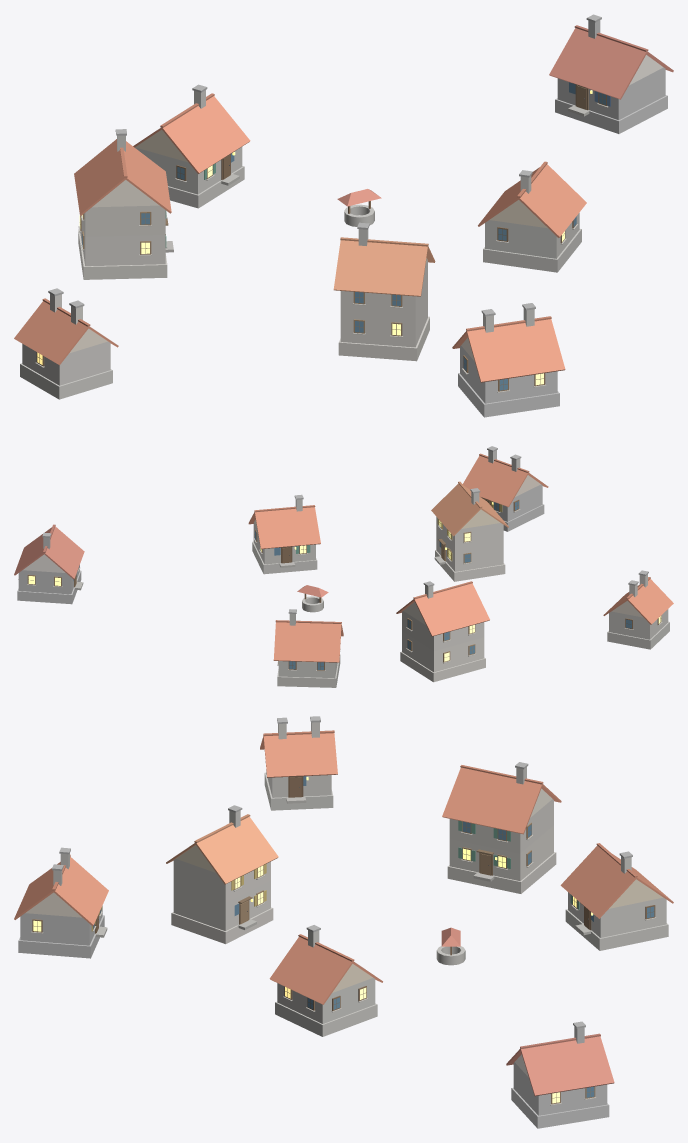
The model's file is struct_10_12.glb.
The picture shows the model from 3 angles, top to bottom: view 1: azimuth 30°, elevation 25°; view 2: azimuth 150°, elevation 25°; view 3: azimuth 270°, elevation 25°; orthographic projection. The views are drawn at different scales.
Visible parts, largest first — view 1: HousesNear, Landmarks, HousesFar; view 2: HousesNear, Landmarks; view 3: HousesNear, Landmarks.
Boxes of the visible parts, bbox=[...] form: HousesNear: bbox=[14, 14, 673, 417]; Landmarks: bbox=[337, 189, 381, 226]; HousesFar: bbox=[48, 82, 575, 326]; HousesNear: bbox=[14, 453, 673, 687]; Landmarks: bbox=[297, 585, 328, 612]; HousesNear: bbox=[14, 717, 673, 1128]; Landmarks: bbox=[436, 927, 465, 965].
Size of the model in its own units: 78.01 by 11.52 by 62.05.
